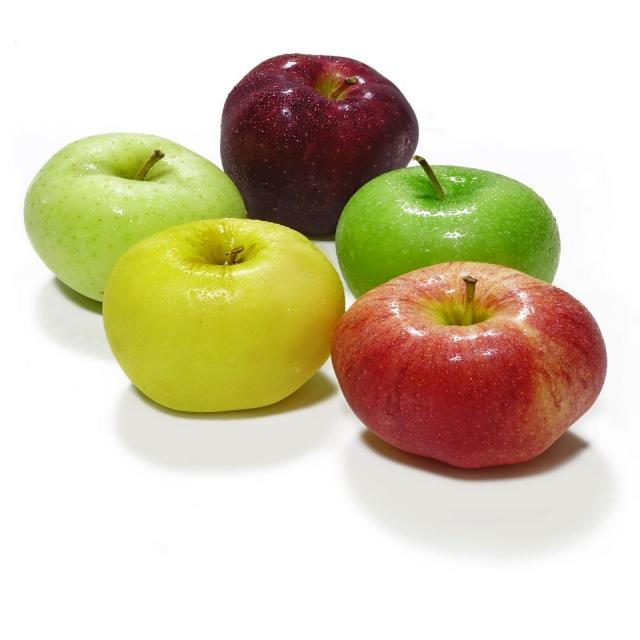fresh_apple: (328, 265, 603, 468), (105, 222, 345, 412)
